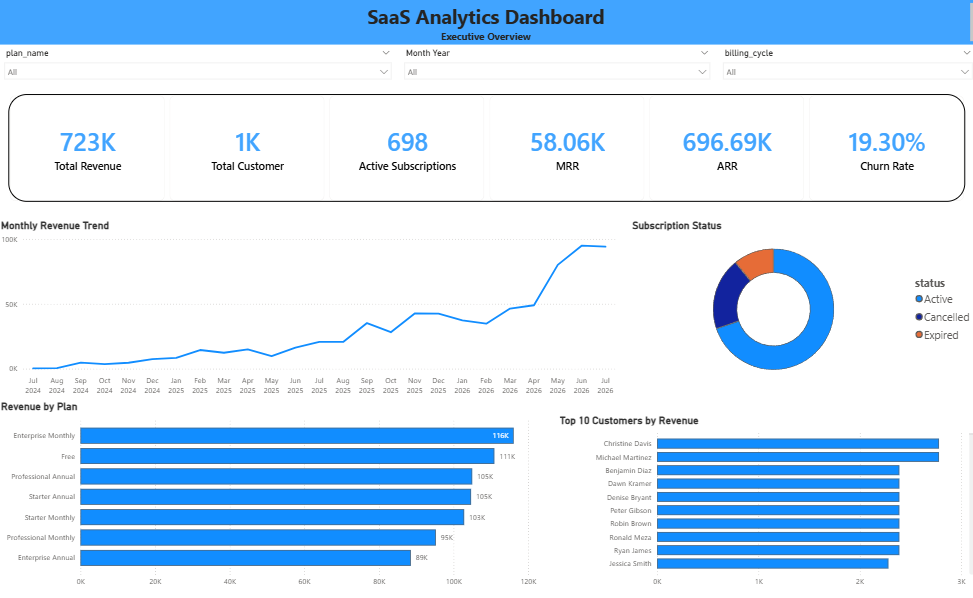

The dashboard page shown, as its layout file describes it:
{"tool":"powerbi","page":{"name":"Executive","canvas":[1600,1000],"ordinal":0},"visuals":[{"type":"lineChart","title":"Monthly Revenue Trend","fields":{"Y":["Measure Table.Total Revenue"],"Category":["Date Table.Month Year"]},"box":[0,357.6,1014.6,296.1],"z":1000},{"type":"donutChart","title":"Subscription Status","fields":{"Category":["fact_subscriptions.status"],"Y":["Measure Table.Total Subscriptions"]},"box":[1030.7,357.6,569.6,276.7],"z":2000},{"type":"clusteredBarChart","title":"Revenue by Plan","fields":{"Category":["dim_plans.plan_name"],"Y":["Measure Table.Total Revenue"]},"box":[0,653.7,894.8,313.9],"z":3000},{"type":"textbox","box":[0,0,1600.5,73],"z":4000},{"type":"slicer","fields":{"Values":["dim_plans.plan_name"]},"box":[0,73,652.7,62.8],"z":5000},{"type":"slicer","fields":{"Values":["Date Table.Month Year"]},"box":[652.7,73,519.9,62.8],"z":6000},{"type":"slicer","fields":{"Values":["dim_plans.billing_cycle"]},"box":[1172.6,73,427.9,62.8],"z":7000},{"type":"clusteredBarChart","title":"Top 10 Customers by Revenue","fields":{"Category":["dim_users.full_name"],"Y":["Measure Table.Total Revenue"]},"box":[912.2,675.5,687.8,291.8],"z":8000},{"type":"cardVisual","fields":{"Data":["Measure Table.Total Revenue","Measure Table.Total Customer","Measure Table.Active Subscriptions","Measure Table.MRR","Measure Table.ARR","Measure Table.Churn Rate"]},"box":[0,135.9,1600.3,210.4],"z":13001}]}

Visuals, with their boxes in screenshot pixels (x1, y1, x2, y2), scaled from the page's 1600x1000 canvas onto the 973x598 screenshot:
"Monthly Revenue Trend" lineChart: bbox=[0, 214, 617, 391]
"Subscription Status" donutChart: bbox=[627, 214, 972, 379]
"Revenue by Plan" clusteredBarChart: bbox=[0, 391, 544, 579]
textbox: bbox=[0, 0, 972, 44]
slicer - dim_plans.plan_name: bbox=[0, 44, 397, 81]
slicer - Date Table.Month Year: bbox=[397, 44, 713, 81]
slicer - dim_plans.billing_cycle: bbox=[713, 44, 972, 81]
"Top 10 Customers by Revenue" clusteredBarChart: bbox=[555, 404, 972, 578]
cardVisual - Measure Table.Total Revenue x Measure Table.Total Customer: bbox=[0, 81, 972, 207]
